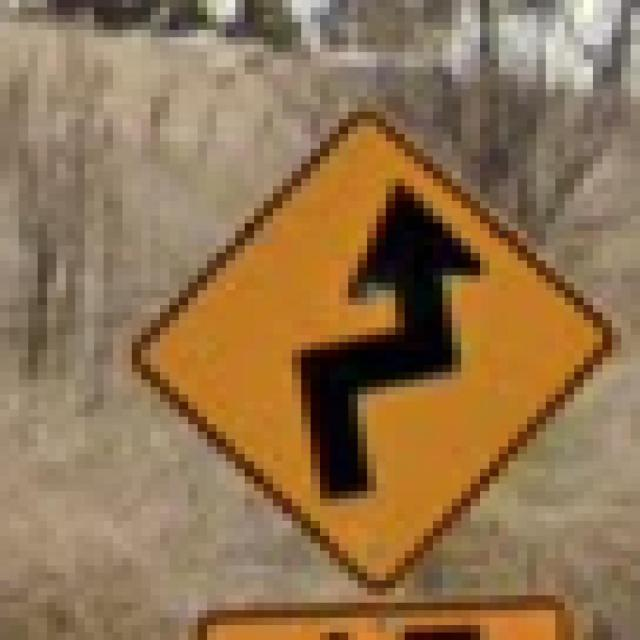Tikungan Ganda Pertama Ke Kanan: (103, 60, 612, 595)
